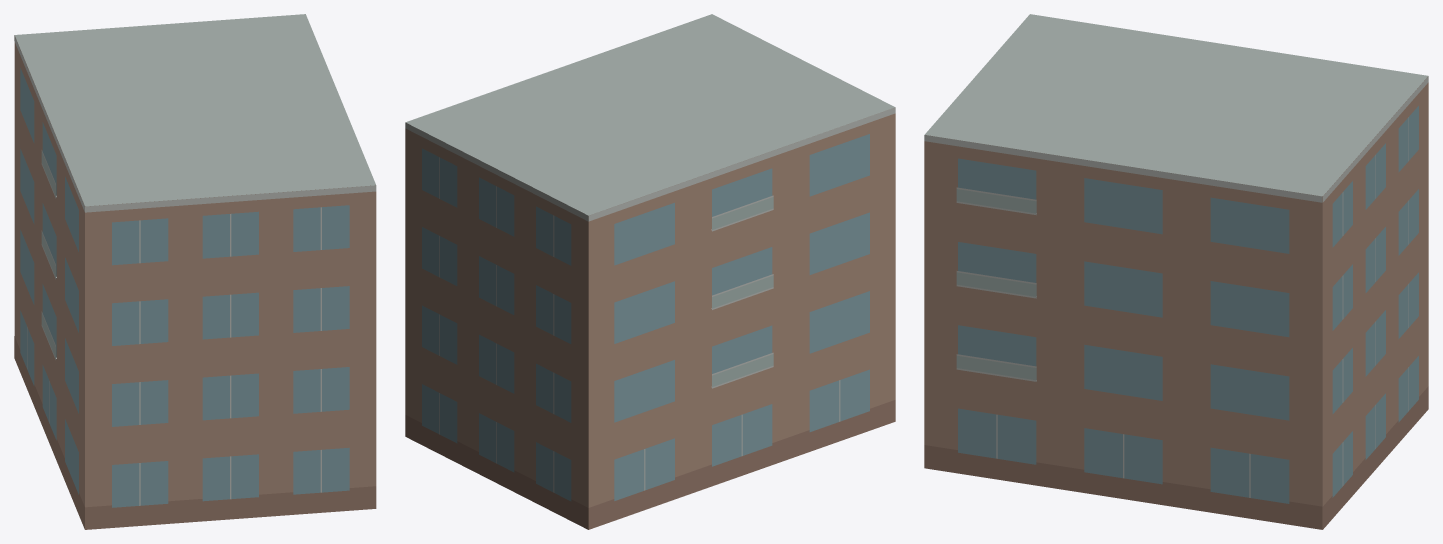
File: survey-upis-32882639.glb
3 renders of one model, left to right at view 1: azimuth 30°, elevation 25°; view 2: azimuth 150°, elevation 25°; view 3: azimuth 270°, elevation 25°, orthographic. The views are drawn at different scales.
Parts seen in each view (by area): view 1: survey-upis-32882639.tmp; view 2: survey-upis-32882639.tmp; view 3: survey-upis-32882639.tmp.
Part boxes in pixels (x1,y1,x2,y2): survey-upis-32882639.tmp: (14,14,376,529); survey-upis-32882639.tmp: (405,14,895,529); survey-upis-32882639.tmp: (924,14,1428,529).
Bounding box in the file's own units: 15.03 × 12.8 × 17.55.
